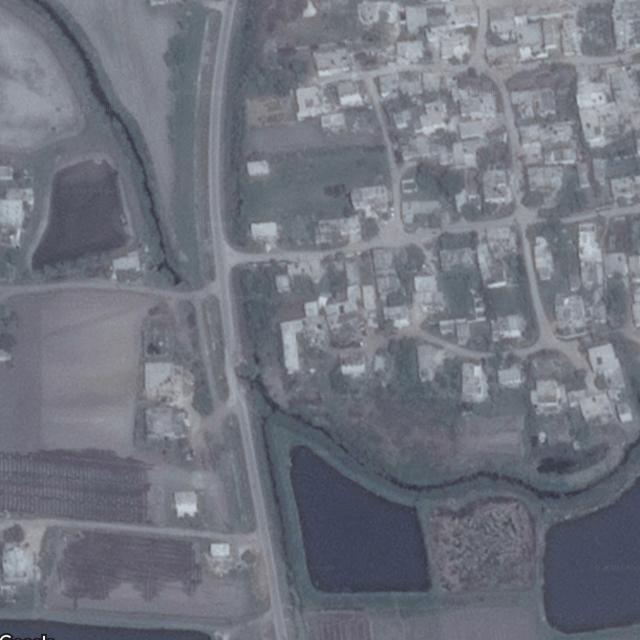damaged_building: (301, 311, 329, 348)
